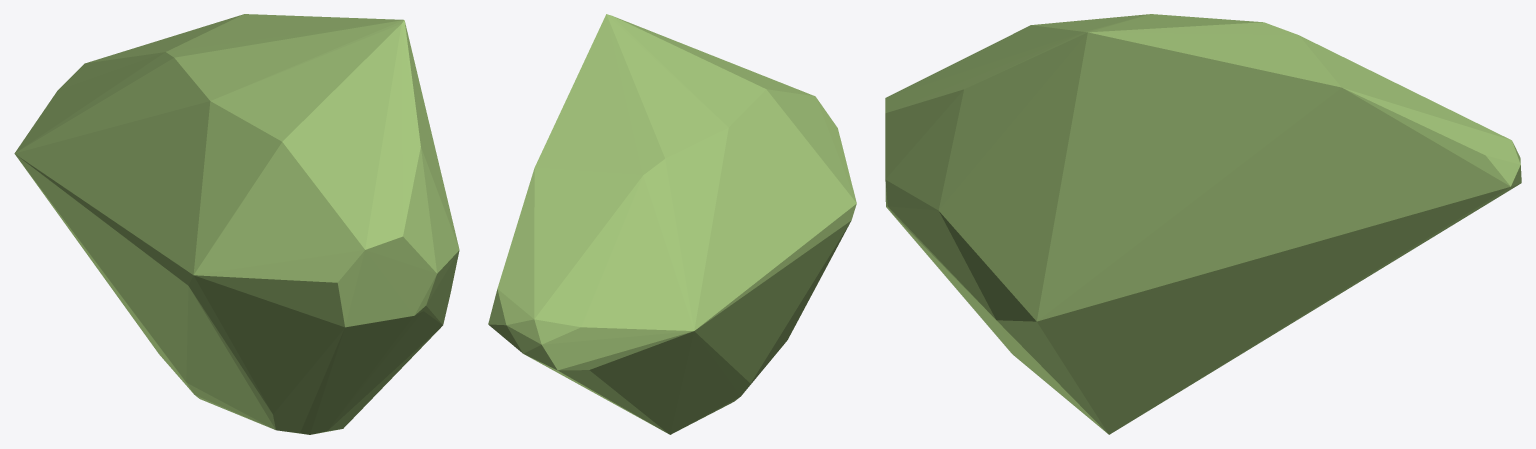
Rendered from coolingSystem_coolant_reservoir_tank_a01.glb.
3 renders of one model, left to right at view 1: azimuth 30°, elevation 25°; view 2: azimuth 150°, elevation 25°; view 3: azimuth 270°, elevation 25°, orthographic. The views are drawn at different scales.
Parts seen in each view (by area): view 1: geometry_0; view 2: geometry_0; view 3: geometry_0.
Boxes of the visible parts, x1,y1,x2,y2 form: geometry_0: (14, 14, 459, 434); geometry_0: (488, 14, 856, 434); geometry_0: (885, 14, 1521, 434).
Size of the model in its own units: 0.2457 by 0.3571 by 0.4799.
